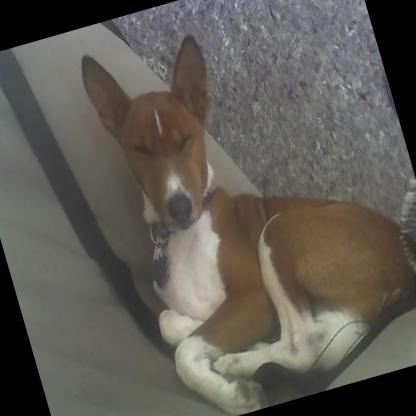basenji: (73, 0, 416, 416)
